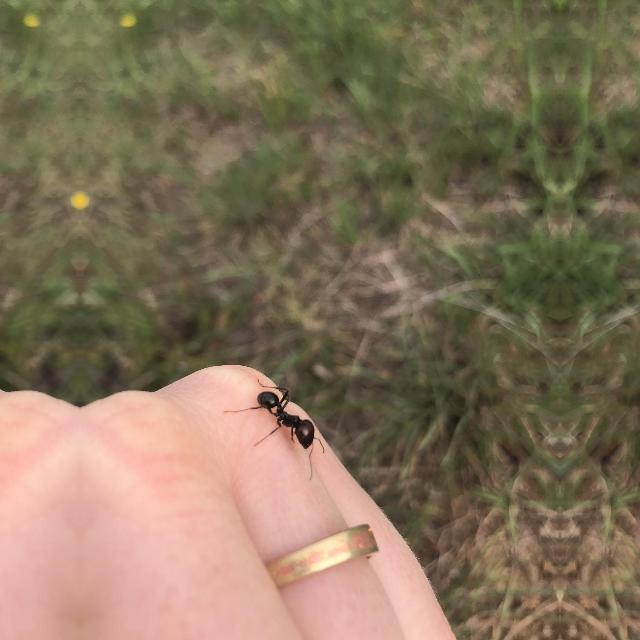Messor: (254, 373, 318, 459)
